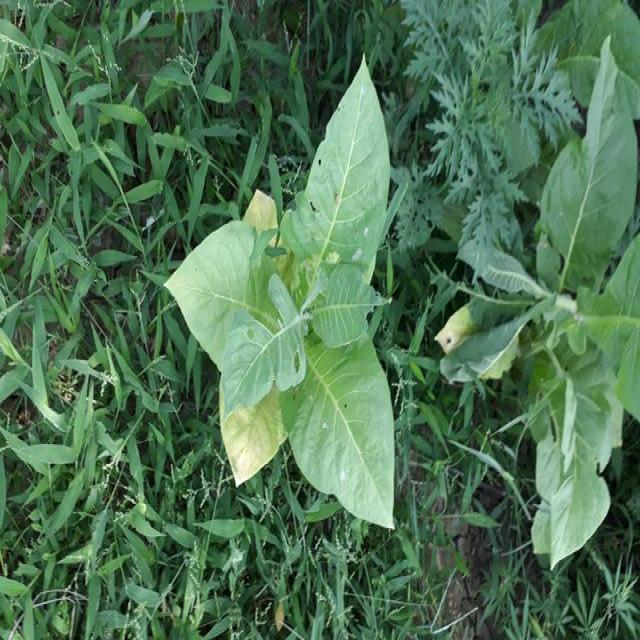crop: (166, 84, 400, 544), (522, 150, 640, 548)
